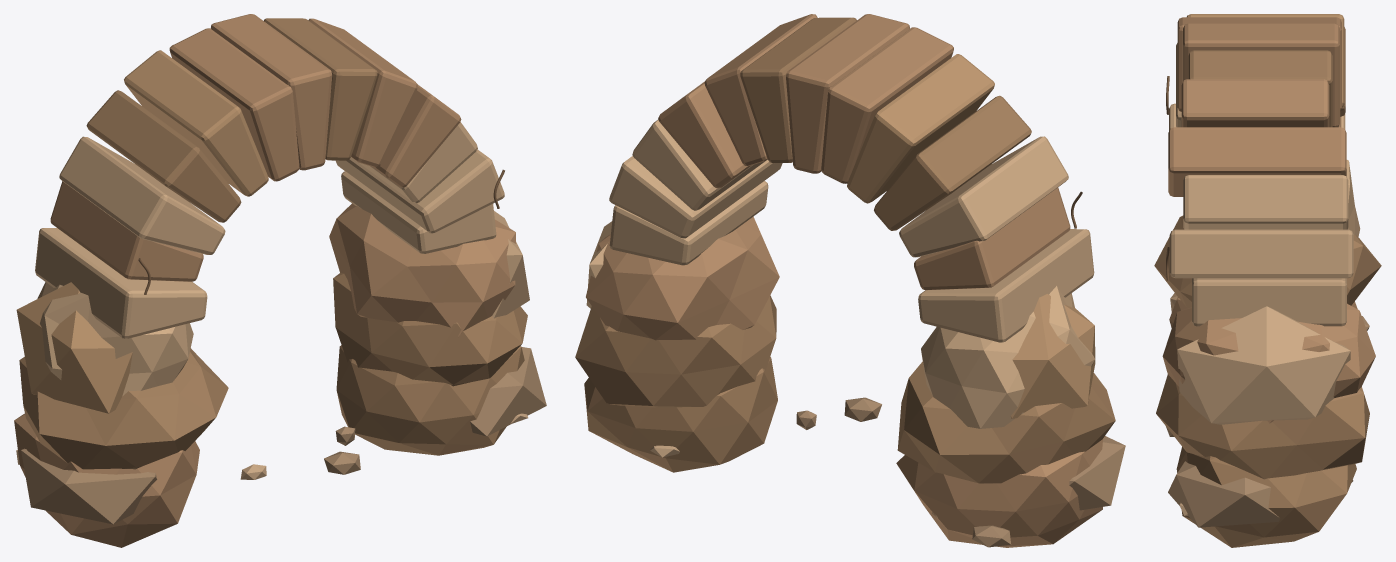
The model's file is arco_pedra_deserto.glb.
The picture shows the model from 3 angles, left to right: view 1: azimuth 30°, elevation 25°; view 2: azimuth 150°, elevation 25°; view 3: azimuth 270°, elevation 25°; orthographic projection. The views are drawn at different scales.
Visible parts, largest first — view 1: Pilar de arenito direito 02, Pilar de arenito esquerdo 01, Pilar de arenito direito 00, Pilar de arenito direito 01, Bloco erodido do arco 08, Bloco erodido do arco 10, Bloco erodido do arco 12, Bloco erodido do arco 07, Ombro de rocha quebrada, Bloco erodido do arco 09, Pilar de arenito esquerdo 00, Bloco erodido do arco 06 (+12 smaller); view 2: Pilar de arenito direito 02, Pilar de arenito direito 01, Pilar de arenito esquerdo 01, Pilar de arenito esquerdo 00, Pilar de arenito direito 00, Pilar de arenito esquerdo 02, Bloco erodido do arco 08, Bloco erodido do arco 10, Bloco erodido do arco 12, Bloco erodido do arco 09, Bloco erodido do arco 07, Bloco erodido do arco 06 (+11 smaller); view 3: Ombro de rocha quebrada.001, Pilar de arenito direito 01, Bloco erodido do arco 01, Bloco erodido do arco 02, Bloco erodido do arco 03, Bloco erodido do arco 04, Pilar de arenito direito 00, Bloco erodido do arco 00, Pilar de arenito direito 02, Bloco erodido do arco 06, Bloco erodido do arco 05, Pedra caída na base.001 (+4 smaller).
Part boxes in pixels (box(x1,y1,x2,y2)): Pilar de arenito direito 02: box(329, 203, 515, 337); Pilar de arenito esquerdo 01: box(19, 348, 228, 469); Pilar de arenito direito 00: box(336, 345, 524, 455); Pilar de arenito direito 01: box(333, 272, 527, 386); Bloco erodido do arco 08: box(124, 50, 268, 196); Bloco erodido do arco 10: box(59, 136, 225, 254); Bloco erodido do arco 12: box(35, 228, 207, 338); Bloco erodido do arco 07: box(169, 28, 299, 181); Ombro de rocha quebrada: box(16, 282, 132, 413); Bloco erodido do arco 09: box(86, 90, 241, 222); Pilar de arenito esquerdo 00: box(14, 413, 199, 547); Bloco erodido do arco 06: box(211, 14, 332, 170); Pilar de arenito direito 02: box(586, 216, 779, 340); Pilar de arenito direito 01: box(575, 295, 776, 407); Pilar de arenito esquerdo 01: box(897, 362, 1115, 483); Pilar de arenito esquerdo 00: box(896, 439, 1102, 547); Pilar de arenito direito 00: box(584, 357, 777, 472); Pilar de arenito esquerdo 02: box(921, 286, 1094, 428); Bloco erodido do arco 08: box(847, 54, 994, 203); Bloco erodido do arco 10: box(899, 136, 1068, 257); Bloco erodido do arco 12: box(918, 229, 1094, 342); Bloco erodido do arco 09: box(874, 95, 1031, 230); Bloco erodido do arco 07: box(821, 27, 953, 183); Bloco erodido do arco 06: box(786, 14, 909, 173); Ombro de rocha quebrada.001: box(1177, 306, 1350, 424); Pilar de arenito direito 01: box(1156, 374, 1369, 479); Bloco erodido do arco 01: box(1169, 229, 1353, 278); Bloco erodido do arco 02: box(1183, 175, 1348, 229); Bloco erodido do arco 03: box(1168, 127, 1346, 196); Bloco erodido do arco 04: box(1181, 79, 1329, 127); Pilar de arenito direito 00: box(1176, 447, 1356, 547); Bloco erodido do arco 00: box(1192, 278, 1346, 326); Pilar de arenito direito 02: box(1162, 303, 1375, 423); Bloco erodido do arco 06: box(1183, 23, 1339, 127); Bloco erodido do arco 05: box(1188, 50, 1332, 127); Pedra caída na base.001: box(1168, 461, 1280, 527).
Bounding box in the file's own units: 1.29 × 1.11 × 0.5259.
